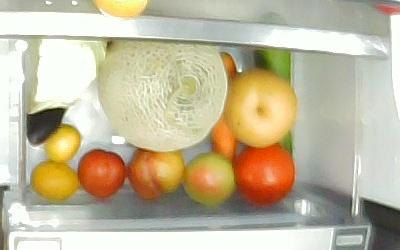cabbage: (28, 39, 108, 113)
carrot: (209, 52, 239, 164)
eggplant: (26, 107, 68, 148)
melon: (97, 38, 229, 151)
pear: (221, 69, 297, 149)
prune: (127, 146, 184, 201), (79, 148, 126, 198)
tangerine: (31, 160, 78, 203), (44, 123, 80, 162)
tomato: (232, 145, 295, 207), (184, 154, 235, 207)
zucchini: (253, 48, 292, 155)
